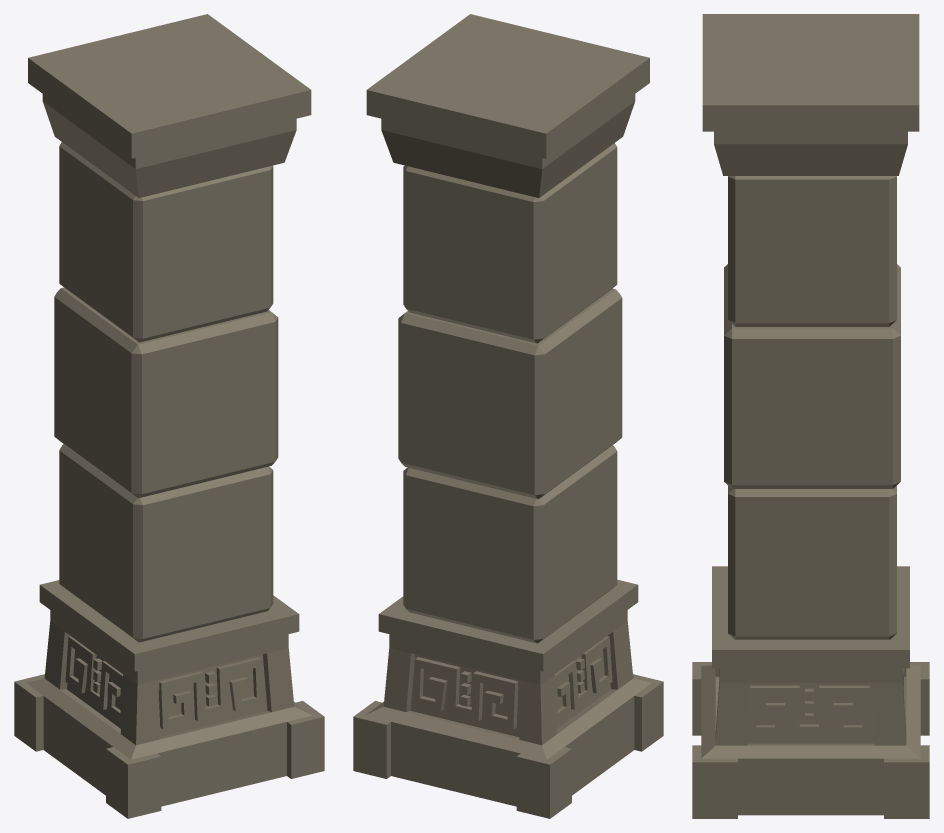
The model's file is TemplePillar_A.fbx.
The picture shows the model from 3 angles, left to right: view 1: azimuth 30°, elevation 25°; view 2: azimuth 150°, elevation 25°; view 3: azimuth 270°, elevation 25°; orthographic projection. The views are drawn at different scales.
Visible parts, largest first — view 1: TemplePillar_A; view 2: TemplePillar_A; view 3: TemplePillar_A.
Part boxes in pixels (x1,y1,x2,y2): TemplePillar_A: (14,14,324,818); TemplePillar_A: (353,14,663,818); TemplePillar_A: (692,14,929,818).
Bounding box in the file's own units: 195 × 642 × 195.
